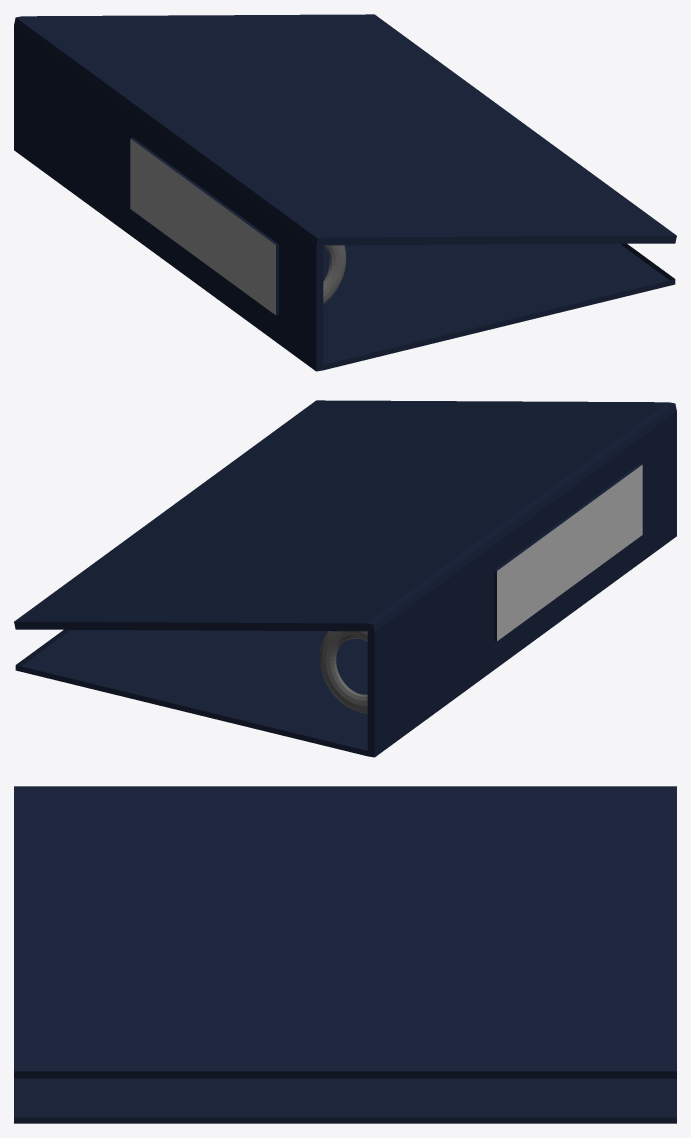
Rendered from file 1 no paper.fbx.
3 renders of one model, top to bottom at view 1: azimuth 30°, elevation 25°; view 2: azimuth 150°, elevation 25°; view 3: azimuth 270°, elevation 25°, orthographic. The views are drawn at different scales.
Parts seen in each view (by area): view 1: Cube; view 2: Cube; view 3: Cube.
Part boxes in pixels (<box>): Cube: <box>14,14,676,371</box>; Cube: <box>14,400,676,757</box>; Cube: <box>14,786,676,1123</box>.
Bounding box in the file's own units: 257 × 89.7 × 369.
